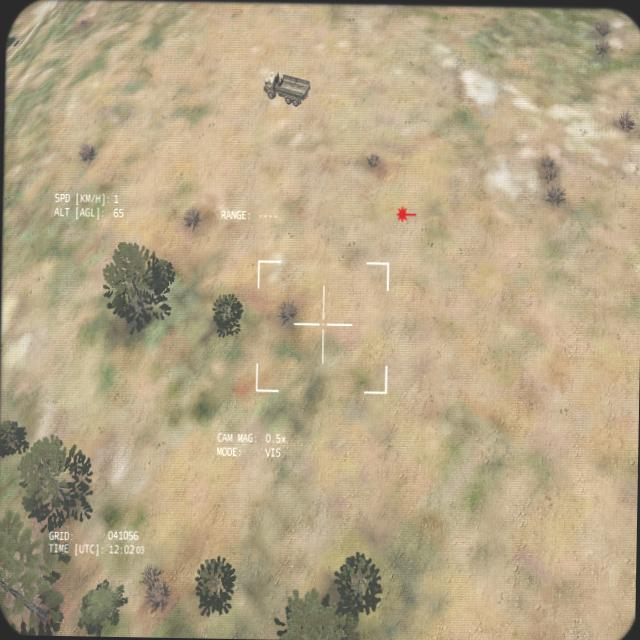truck: (261, 68, 311, 108)
